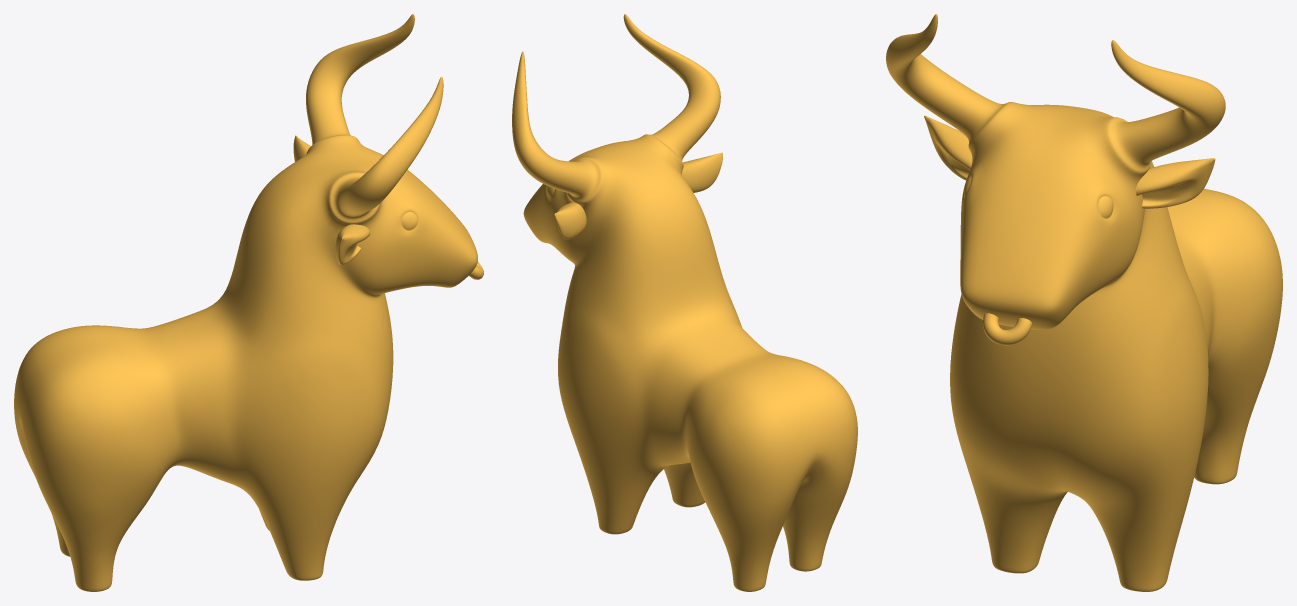
File: goldbull.glb
3 views of the same model, side by side, from view 1: azimuth 30°, elevation 25°; view 2: azimuth 150°, elevation 25°; view 3: azimuth 270°, elevation 25° (orthographic). The views are drawn at different scales.
Parts seen in each view (by area): view 1: Bull, 立方體; view 2: Bull, 立方體; view 3: Bull, 立方體, Torus.
Part boxes in pixels (<box>): Bull: <box>14,14,477,591</box>; 立方體: <box>293,135,370,264</box>; Bull: <box>512,14,857,591</box>; 立方體: <box>554,152,722,239</box>; Bull: <box>886,14,1282,591</box>; 立方體: <box>924,115,1215,208</box>; Torus: <box>983,313,1032,345</box>.
Size of the model in its own units: 0.404 by 0.4806 by 0.2812.
